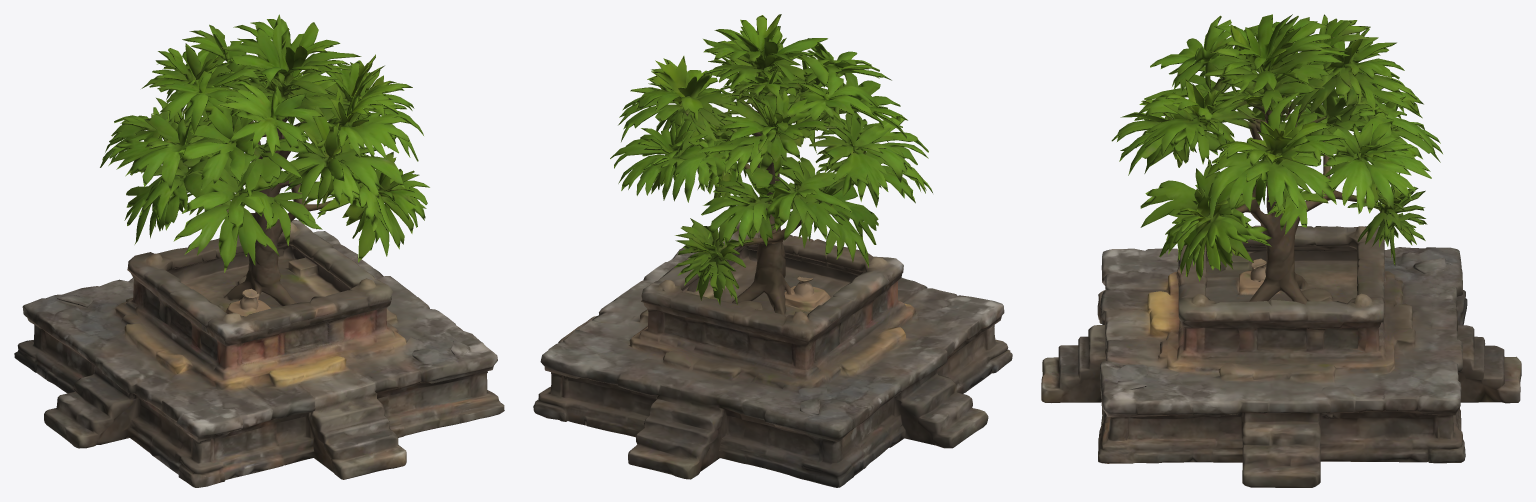
File: chautari.glb
3 views of the same model, side by side, from view 1: azimuth 30°, elevation 25°; view 2: azimuth 150°, elevation 25°; view 3: azimuth 270°, elevation 25° (orthographic). The views are drawn at different scales.
Visible parts, largest first — view 1: tripo_node_590d86f9-7d07-4958-8acd-35b8efa70b88; view 2: tripo_node_590d86f9-7d07-4958-8acd-35b8efa70b88; view 3: tripo_node_590d86f9-7d07-4958-8acd-35b8efa70b88.
Boxes of the visible parts, x1,y1,x2,y2 form: tripo_node_590d86f9-7d07-4958-8acd-35b8efa70b88: (14,14,504,487); tripo_node_590d86f9-7d07-4958-8acd-35b8efa70b88: (533,14,1012,487); tripo_node_590d86f9-7d07-4958-8acd-35b8efa70b88: (1041,14,1521,487).
Bounding box in the file's own units: 0.9991 × 0.8944 × 1.
1 material, 1 textured.
